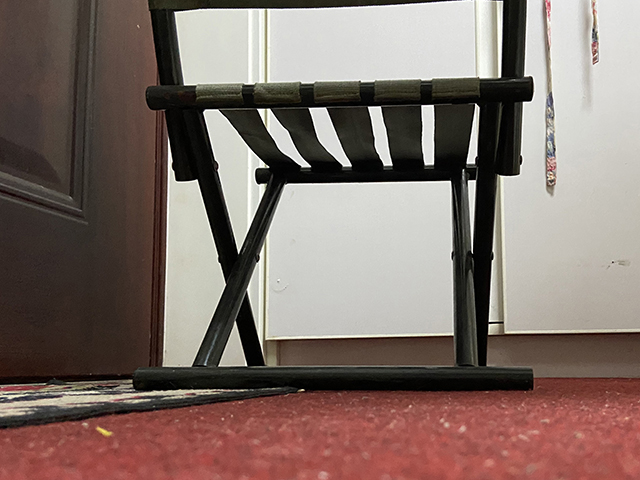cabinet: (154, 1, 640, 381)
carpet: (1, 377, 640, 480), (1, 375, 299, 430)
stool: (130, 1, 535, 393)
